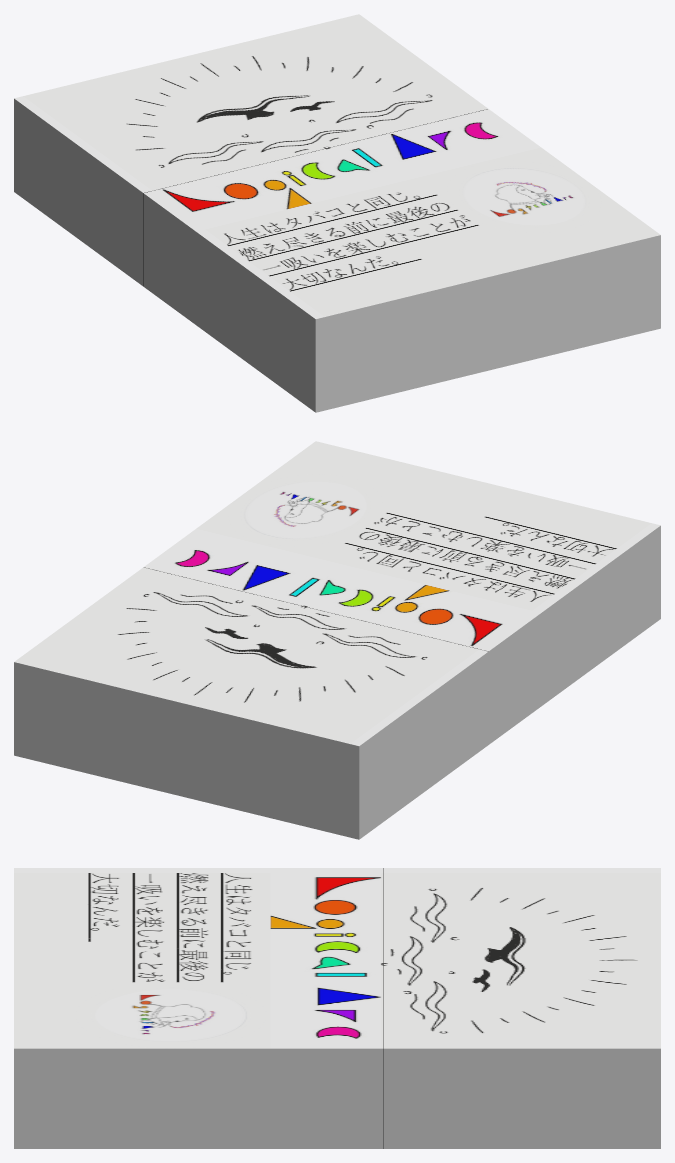
The model's file is タバコケース.fbx.
3 renders of one model, top to bottom at view 1: azimuth 30°, elevation 25°; view 2: azimuth 150°, elevation 25°; view 3: azimuth 270°, elevation 25°, orthographic. The views are drawn at different scales.
Parts seen in each view (by area): view 1: Cube; view 2: Cube; view 3: Cube.
Part boxes in pixels (left/top/right/bottom): Cube: left=14, top=14, right=660, bottom=412; Cube: left=14, top=441, right=660, bottom=839; Cube: left=14, top=868, right=660, bottom=1148.
Bounding box in the file's own units: 200 × 51.78 × 303.
